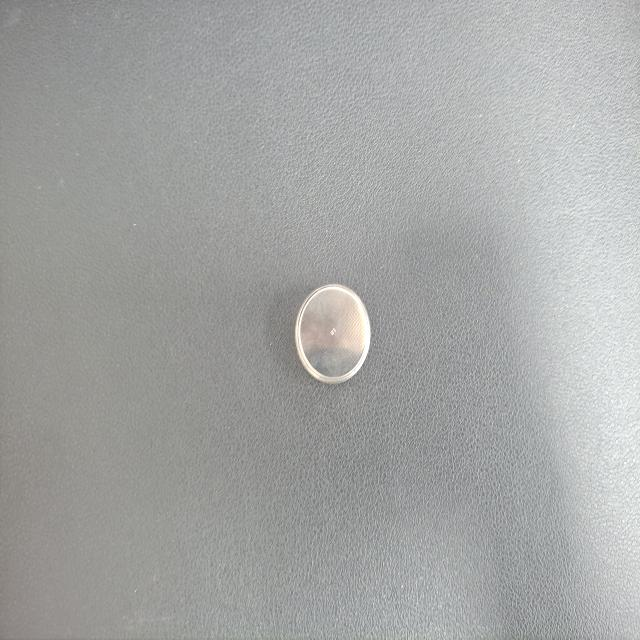COIN: (212, 361, 286, 458)
